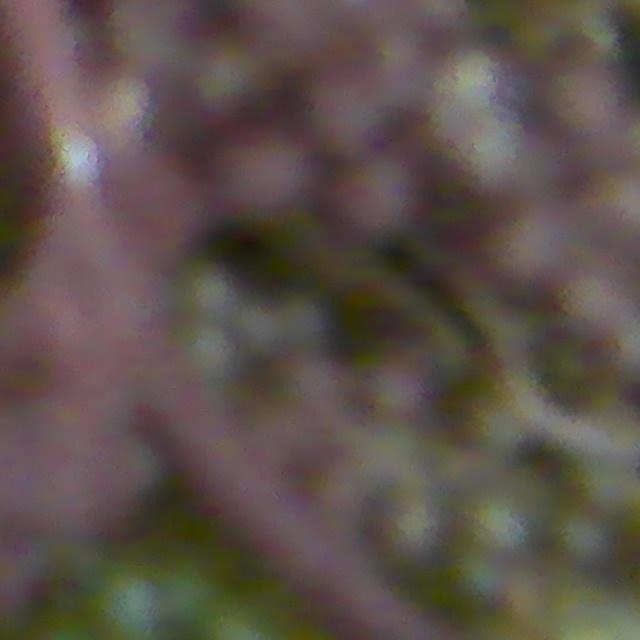SeaGrape: (225, 135, 318, 239), (480, 205, 569, 298), (325, 61, 406, 161), (232, 0, 336, 68), (544, 61, 618, 154), (340, 153, 417, 242), (90, 569, 160, 640), (584, 168, 640, 246), (154, 568, 205, 627)
